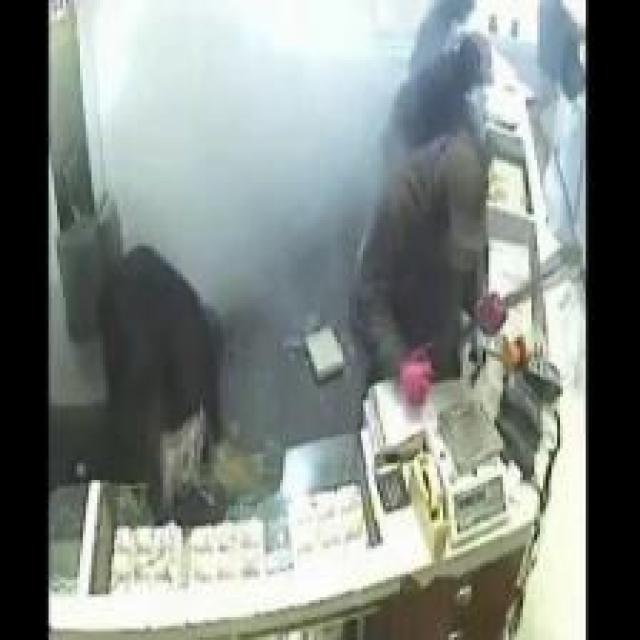fire: (74, 0, 412, 303)
